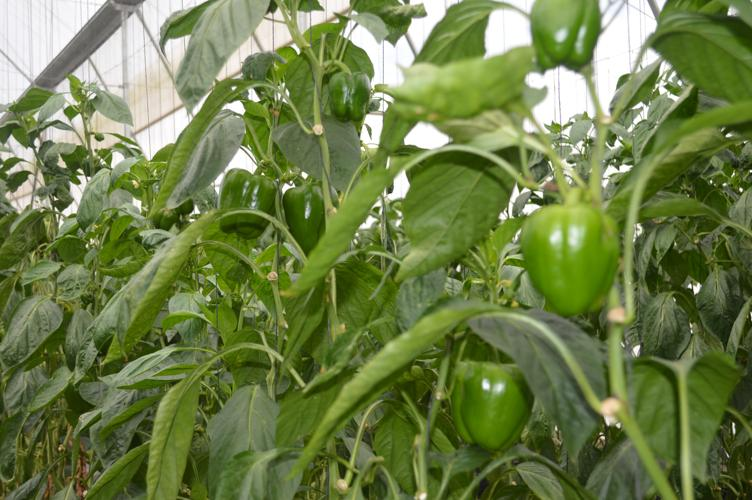BellPepper: (522, 210, 612, 318), (445, 364, 532, 442), (531, 3, 597, 65), (221, 174, 280, 239), (281, 182, 322, 244), (325, 71, 369, 119)
